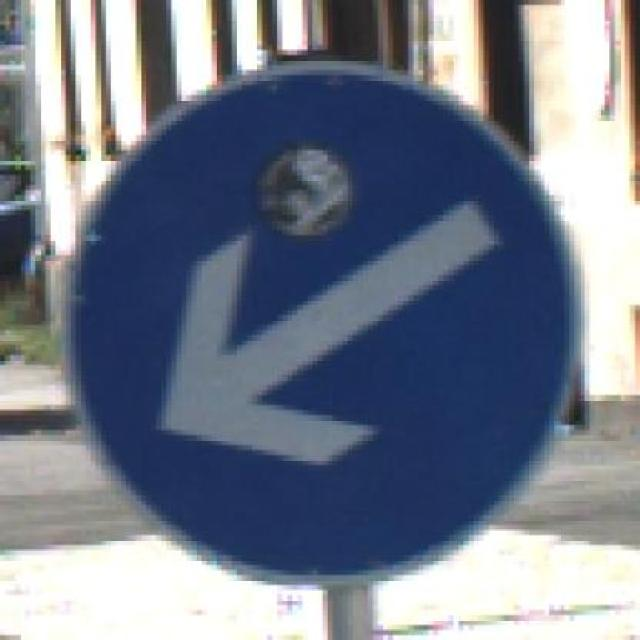Keep-Left: (40, 54, 595, 606)
